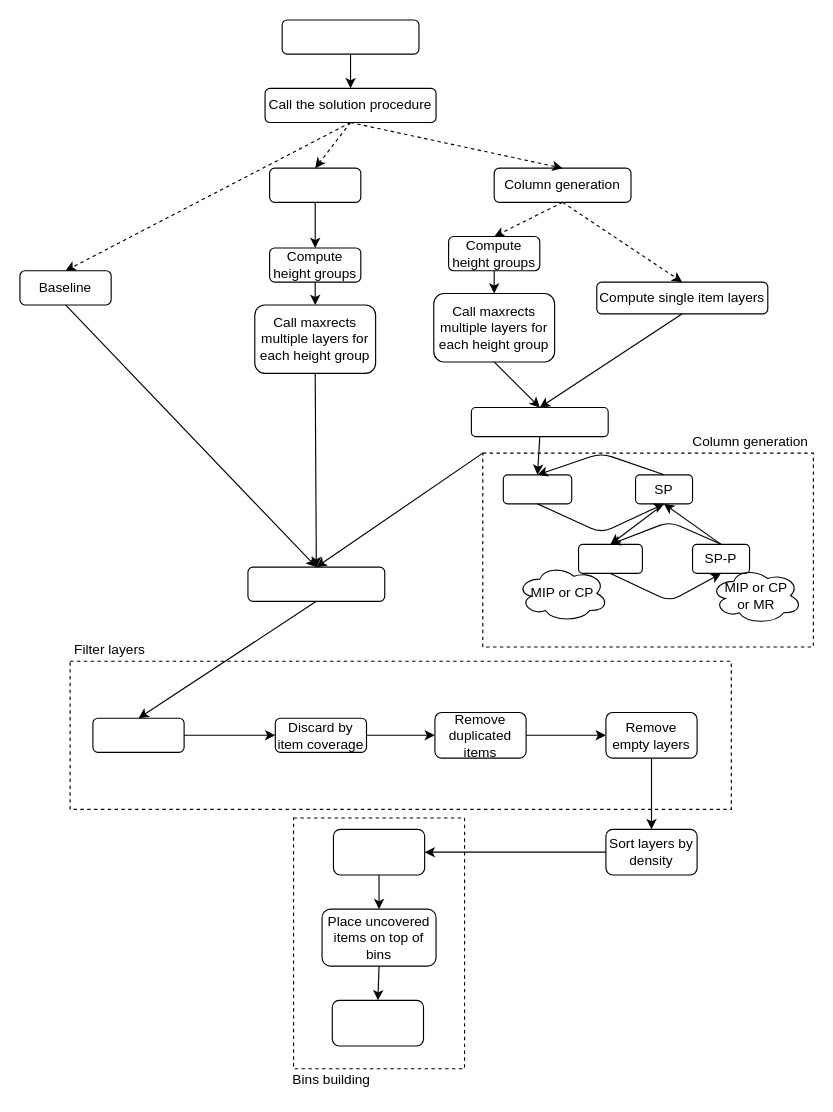
The diagram is 833 pixels wide and 1112 high, and some of its shapes have lost their labels. The shapes that lost their labels are listed below. From the top down, each one's centre as x and y in pixels, then its label:
At point 350,36: "Generate superitems".
At point 314,184: "Maxrects".
At point 539,421: "Warm start layer pool".
At point 537,489: "RMP".
At point 609,558: "SP-NP".
At point 316,583: "Final layer pool".
At point 138,734: "Discard by density".
At point 378,851: "Build bins procedurally".
At point 377,1022: "Compact bins".
